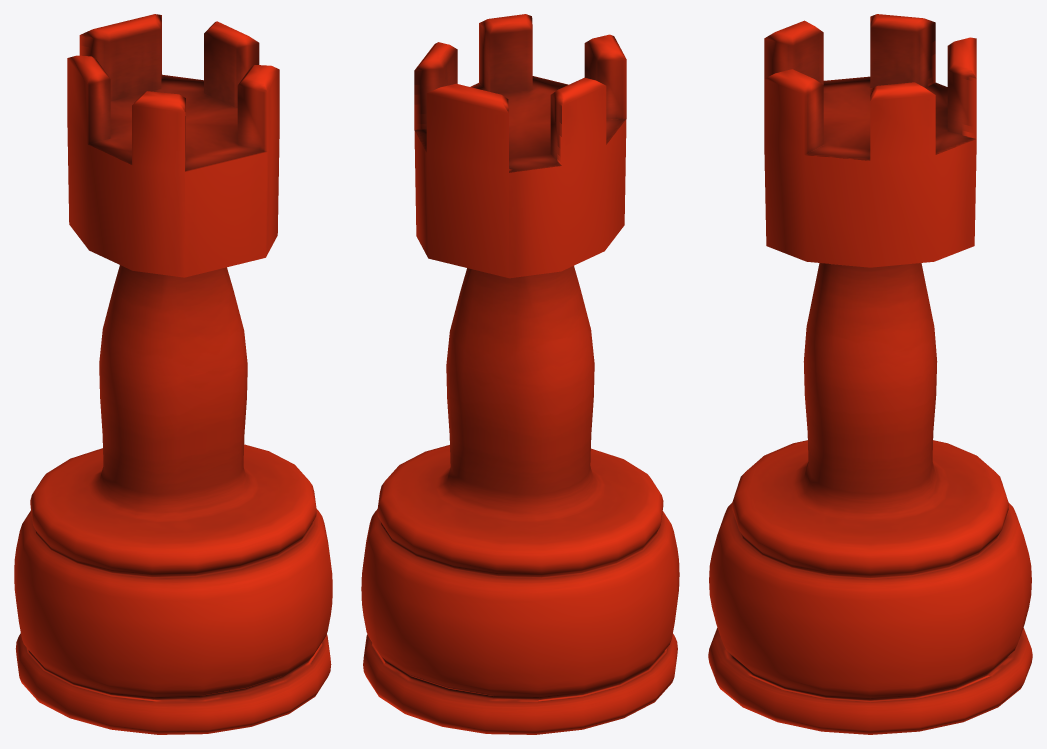
File: rook.obj
3 views of the same model, side by side, from view 1: azimuth 30°, elevation 25°; view 2: azimuth 150°, elevation 25°; view 3: azimuth 270°, elevation 25° (orthographic).
Parts seen in each view (by area): view 1: pCylinder1; view 2: pCylinder1; view 3: pCylinder1.
Boxes of the visible parts, <box> form: pCylinder1: <box>14,14,332,734</box>; pCylinder1: <box>361,14,679,734</box>; pCylinder1: <box>708,14,1032,734</box>.
Bounding box in the file's own units: 0.2626 × 0.5577 × 0.2643.
Materials: 1 (1 with a texture image).
